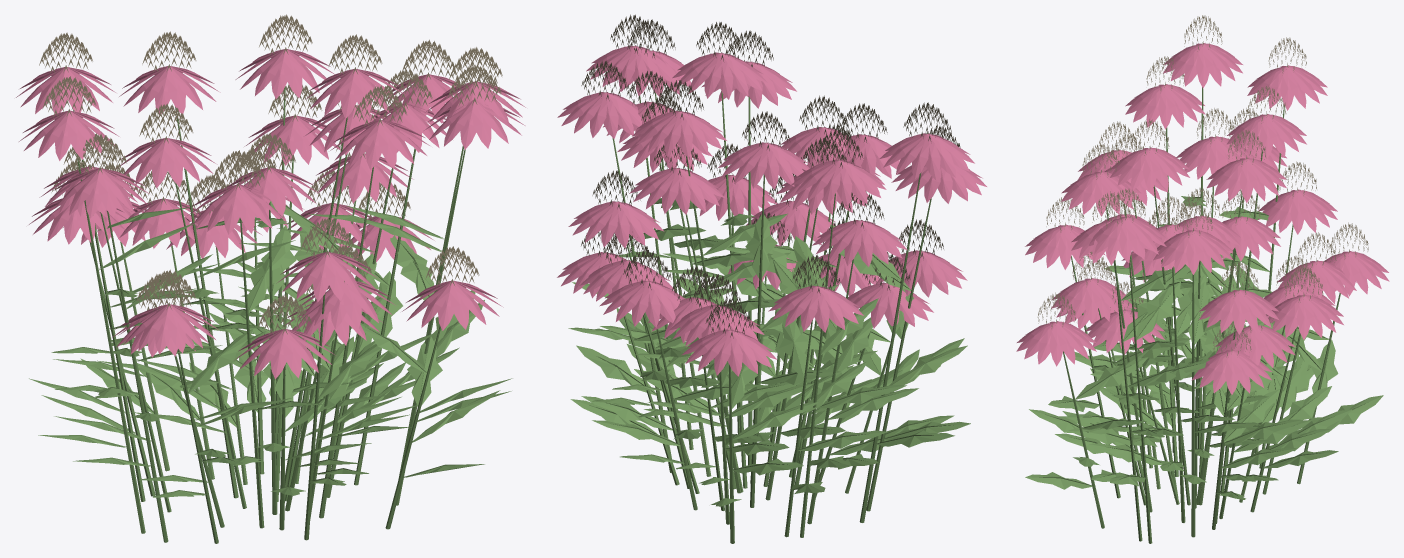
File: coneflower-drift.glb
3 views of the same model, side by side, from view 1: azimuth 30°, elevation 25°; view 2: azimuth 150°, elevation 25°; view 3: azimuth 270°, elevation 25° (orthographic). The views are drawn at different scales.
Parts seen in each view (by area): view 1: catalog_surface_RealismUV; view 2: catalog_surface_RealismUV; view 3: catalog_surface_RealismUV.
Boxes of the visible parts, x1,y1,x2,y2 form: catalog_surface_RealismUV: (16, 14, 525, 543); catalog_surface_RealismUV: (557, 14, 986, 543); catalog_surface_RealismUV: (1016, 15, 1389, 543).
Bounding box in the file's own units: 0.9 × 0.9 × 0.75.
